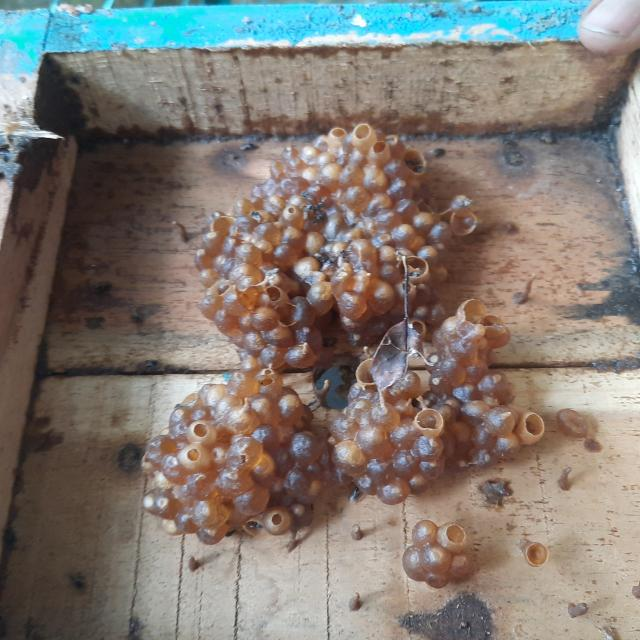honeybee: (324, 256, 336, 274), (429, 147, 446, 159), (248, 210, 264, 222), (351, 486, 361, 502), (303, 202, 311, 220), (302, 192, 316, 202), (248, 524, 262, 532), (338, 248, 348, 259), (316, 213, 328, 222), (238, 144, 256, 150), (413, 165, 423, 173), (314, 203, 322, 209)
